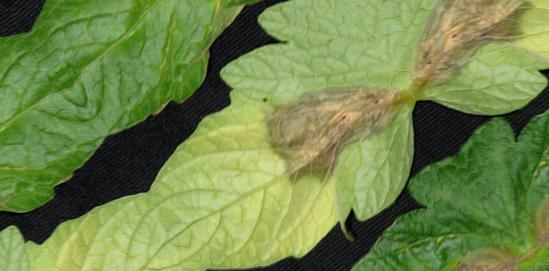Tomato mold leaf: (103, 0, 456, 271), (2, 0, 336, 151), (244, 162, 547, 271)
